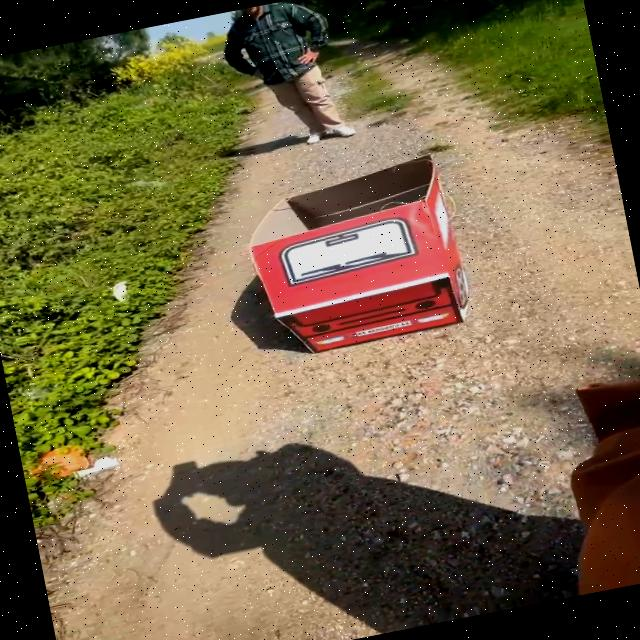red_car: (224, 141, 503, 377)
